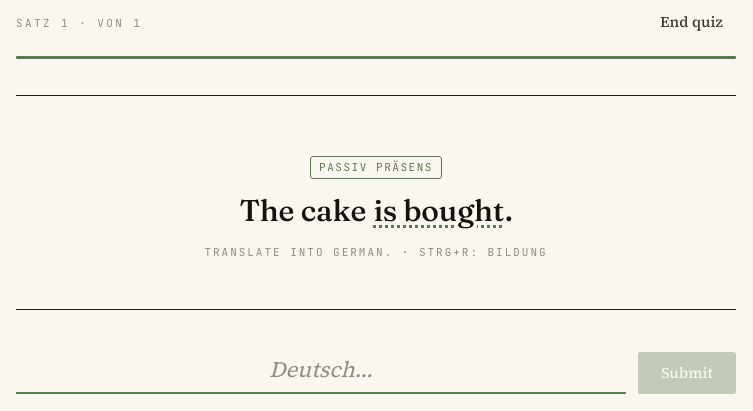
Test: VerbSentenceRunner tense recipe › flips the badge to formula and example on click
The width and height of the screenshot is (753, 411).
Click the button with class "tense-badge" at (376, 167), box [310,156,442,178]
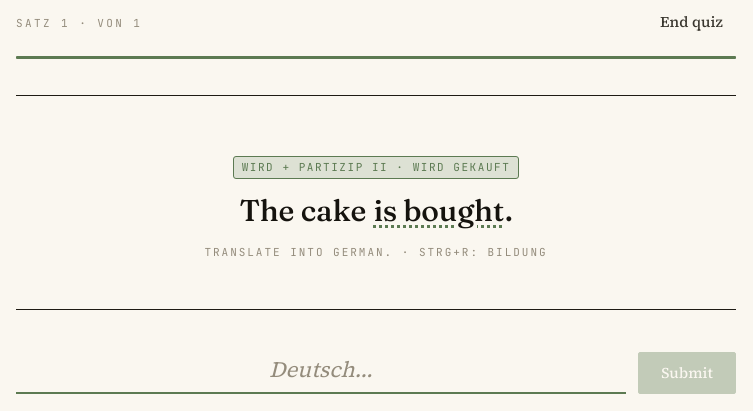
Check: the button with class "tense-badge" shows "wird + Partizip II", box [233,156,519,178]
Check: the button with class "tense-badge" shows "wird gekauft", box [233,156,519,178]
